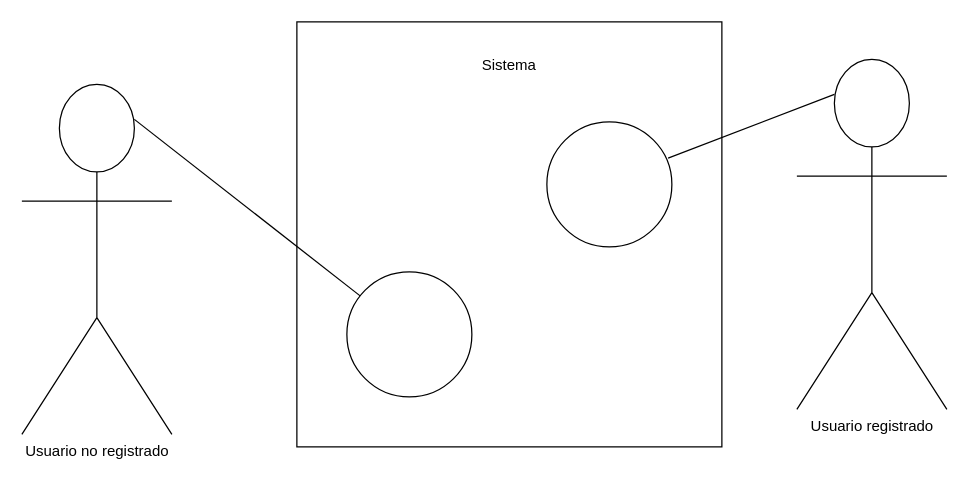
This 969x501 diagram has some shape labels left out. The box of each missing label's shape, as (x1, y1, x2, y2) in pixels:
Consultar las estadísticas generales: (346, 271, 472, 397)
Consultar mis estadísticas: (546, 121, 672, 247)
